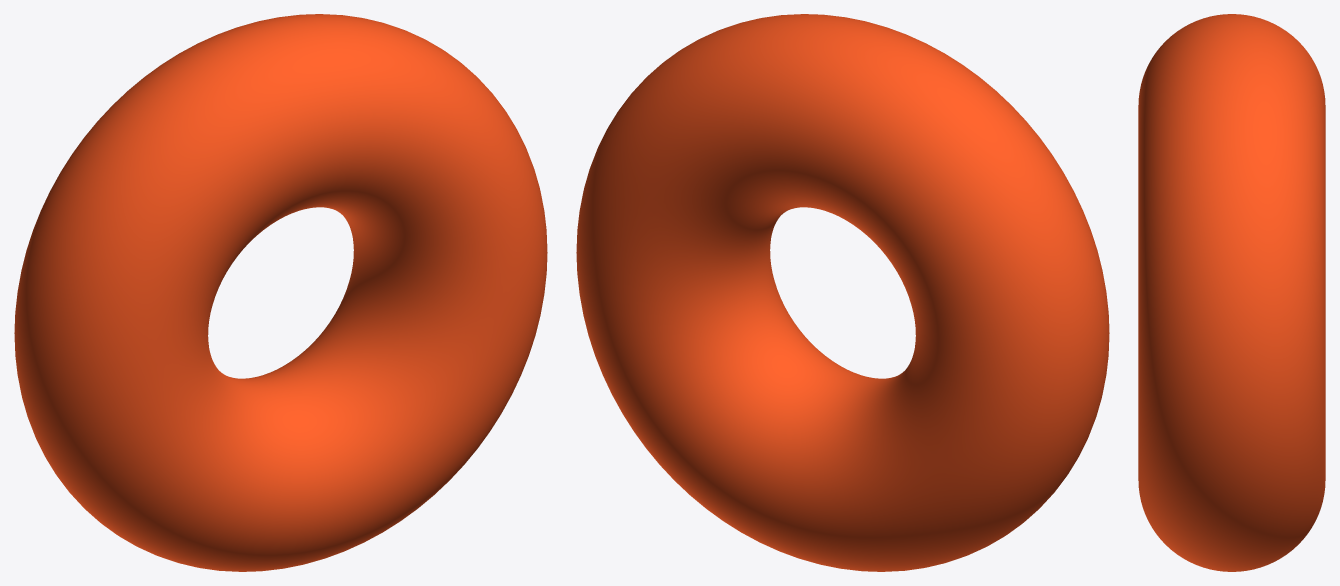
Rendered from DonutC_Ph.fbx.
The picture shows the model from 3 angles, left to right: view 1: azimuth 30°, elevation 25°; view 2: azimuth 150°, elevation 25°; view 3: azimuth 270°, elevation 25°; orthographic projection. The views are drawn at different scales.
Visible parts, largest first — view 1: pTorus1; view 2: pTorus1; view 3: pTorus1.
Part boxes in pixels (bbox=[...]): pTorus1: bbox=[14, 14, 547, 571]; pTorus1: bbox=[576, 14, 1109, 571]; pTorus1: bbox=[1138, 14, 1325, 571].
Bounding box in the file's own units: 1.47 × 1.47 × 0.4924.
